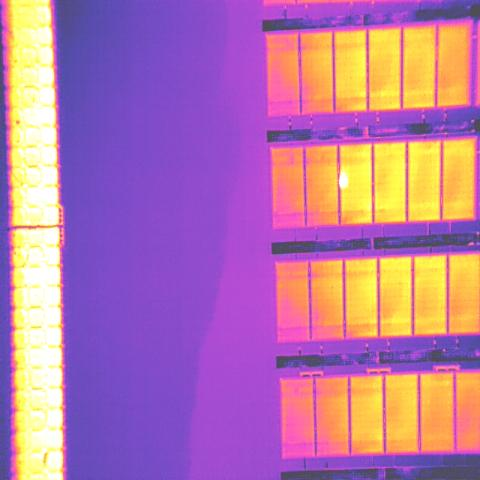fault: (338, 169, 349, 189)
